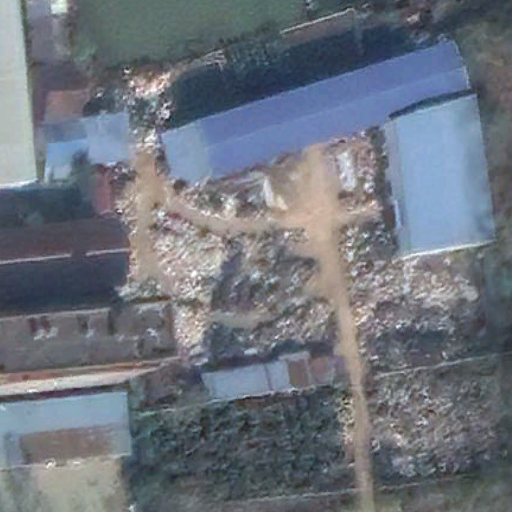msw: (338, 145, 508, 483), (123, 177, 329, 368), (126, 69, 170, 157)
